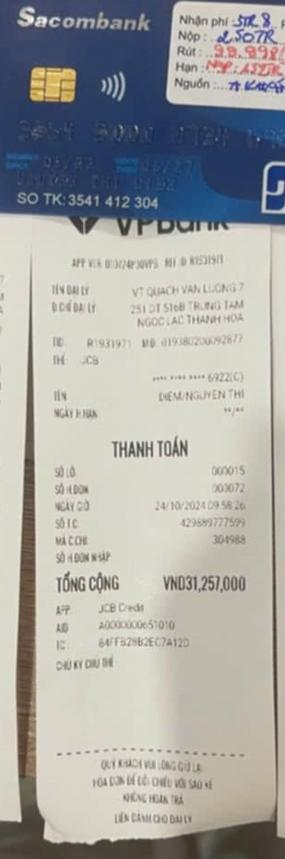receipt: (30, 236, 266, 604)
